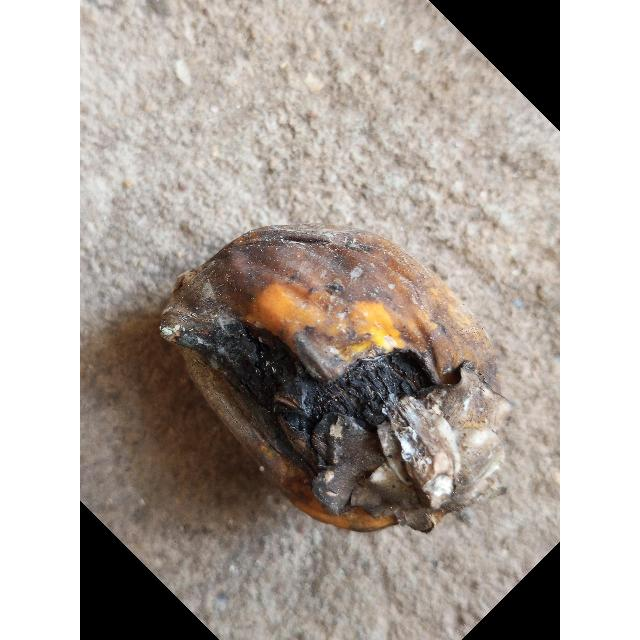damaged: (157, 226, 500, 536)
